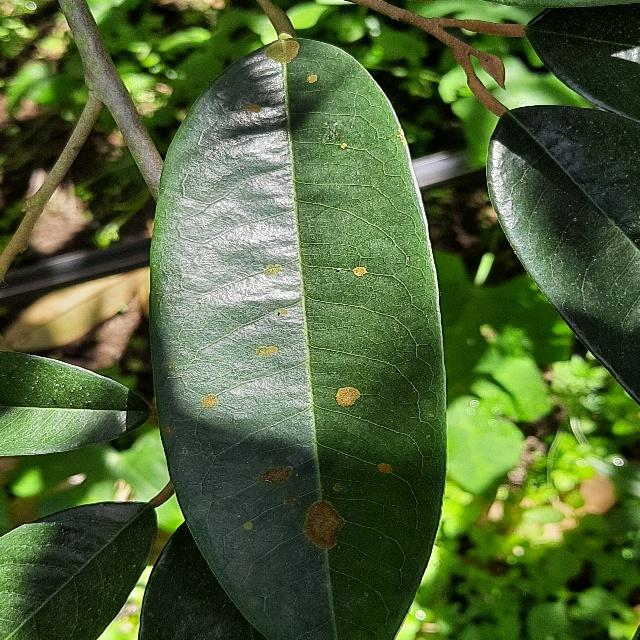Algal Leaf Spot: (142, 33, 453, 640)
